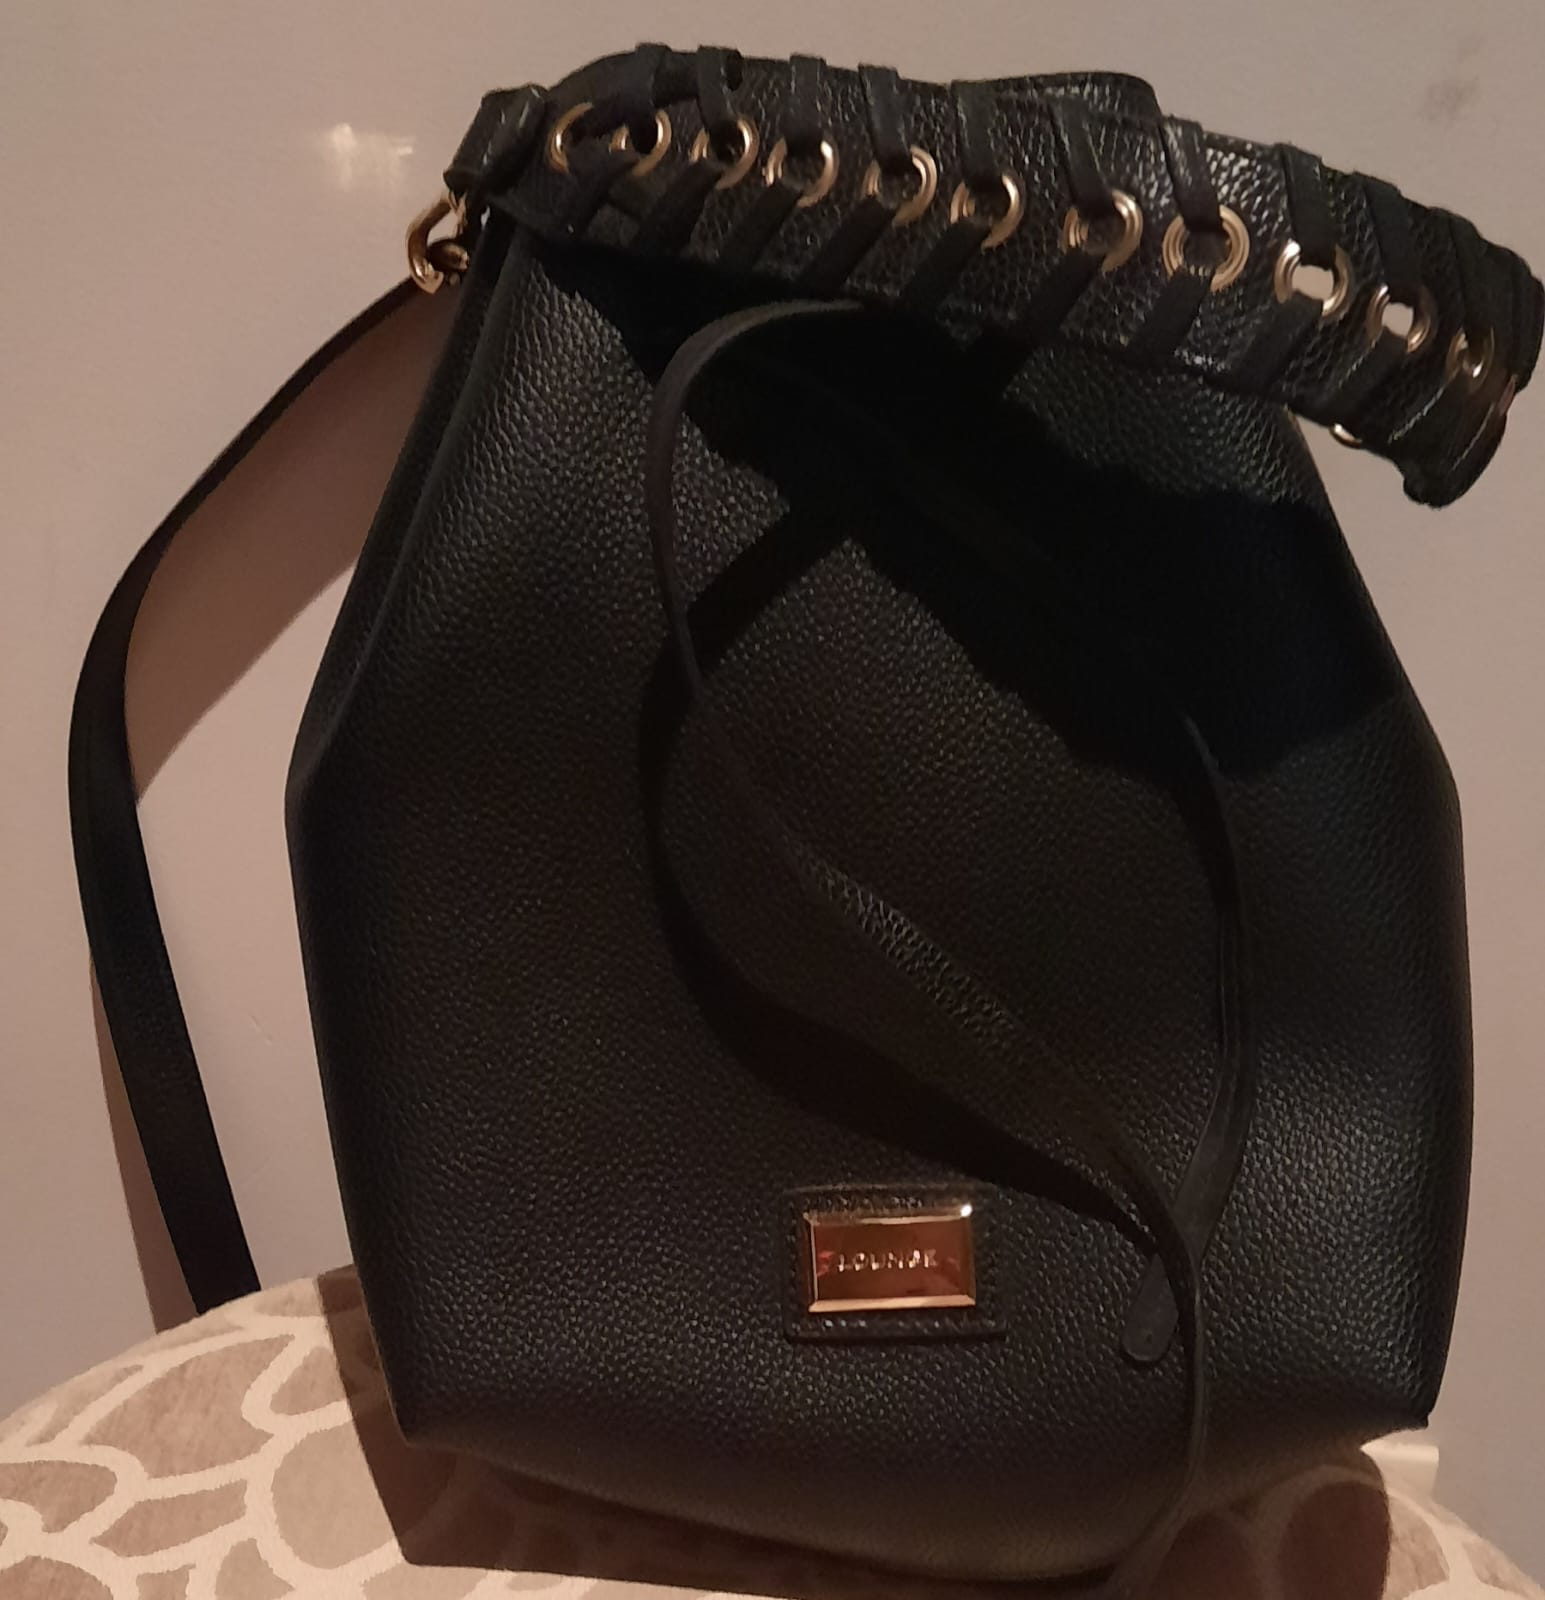cartera: (143, 36, 1515, 1600)
cuero: (565, 557, 1008, 1150)
